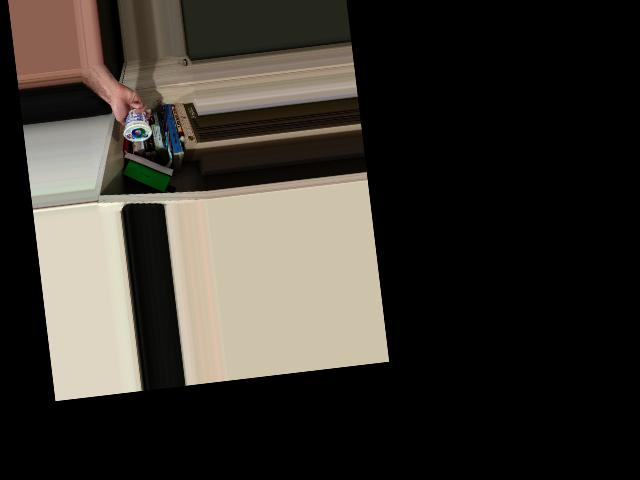cotage: (121, 102, 153, 144)
